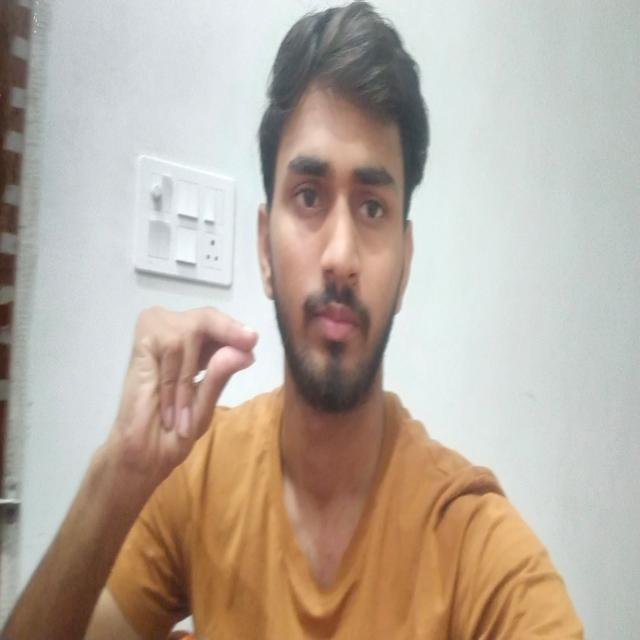No: (124, 240, 264, 522)
